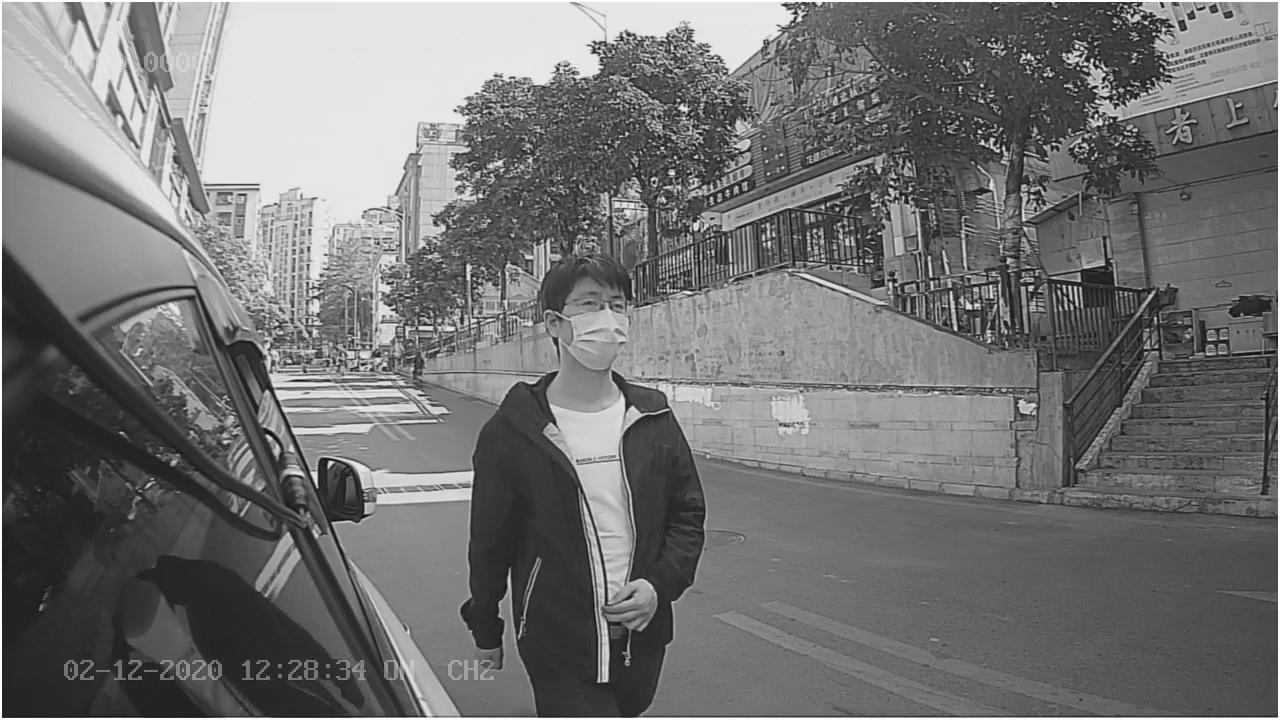person: (458, 253, 723, 637)
